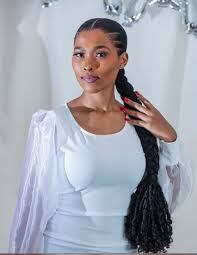person: (71, 18, 129, 95)
